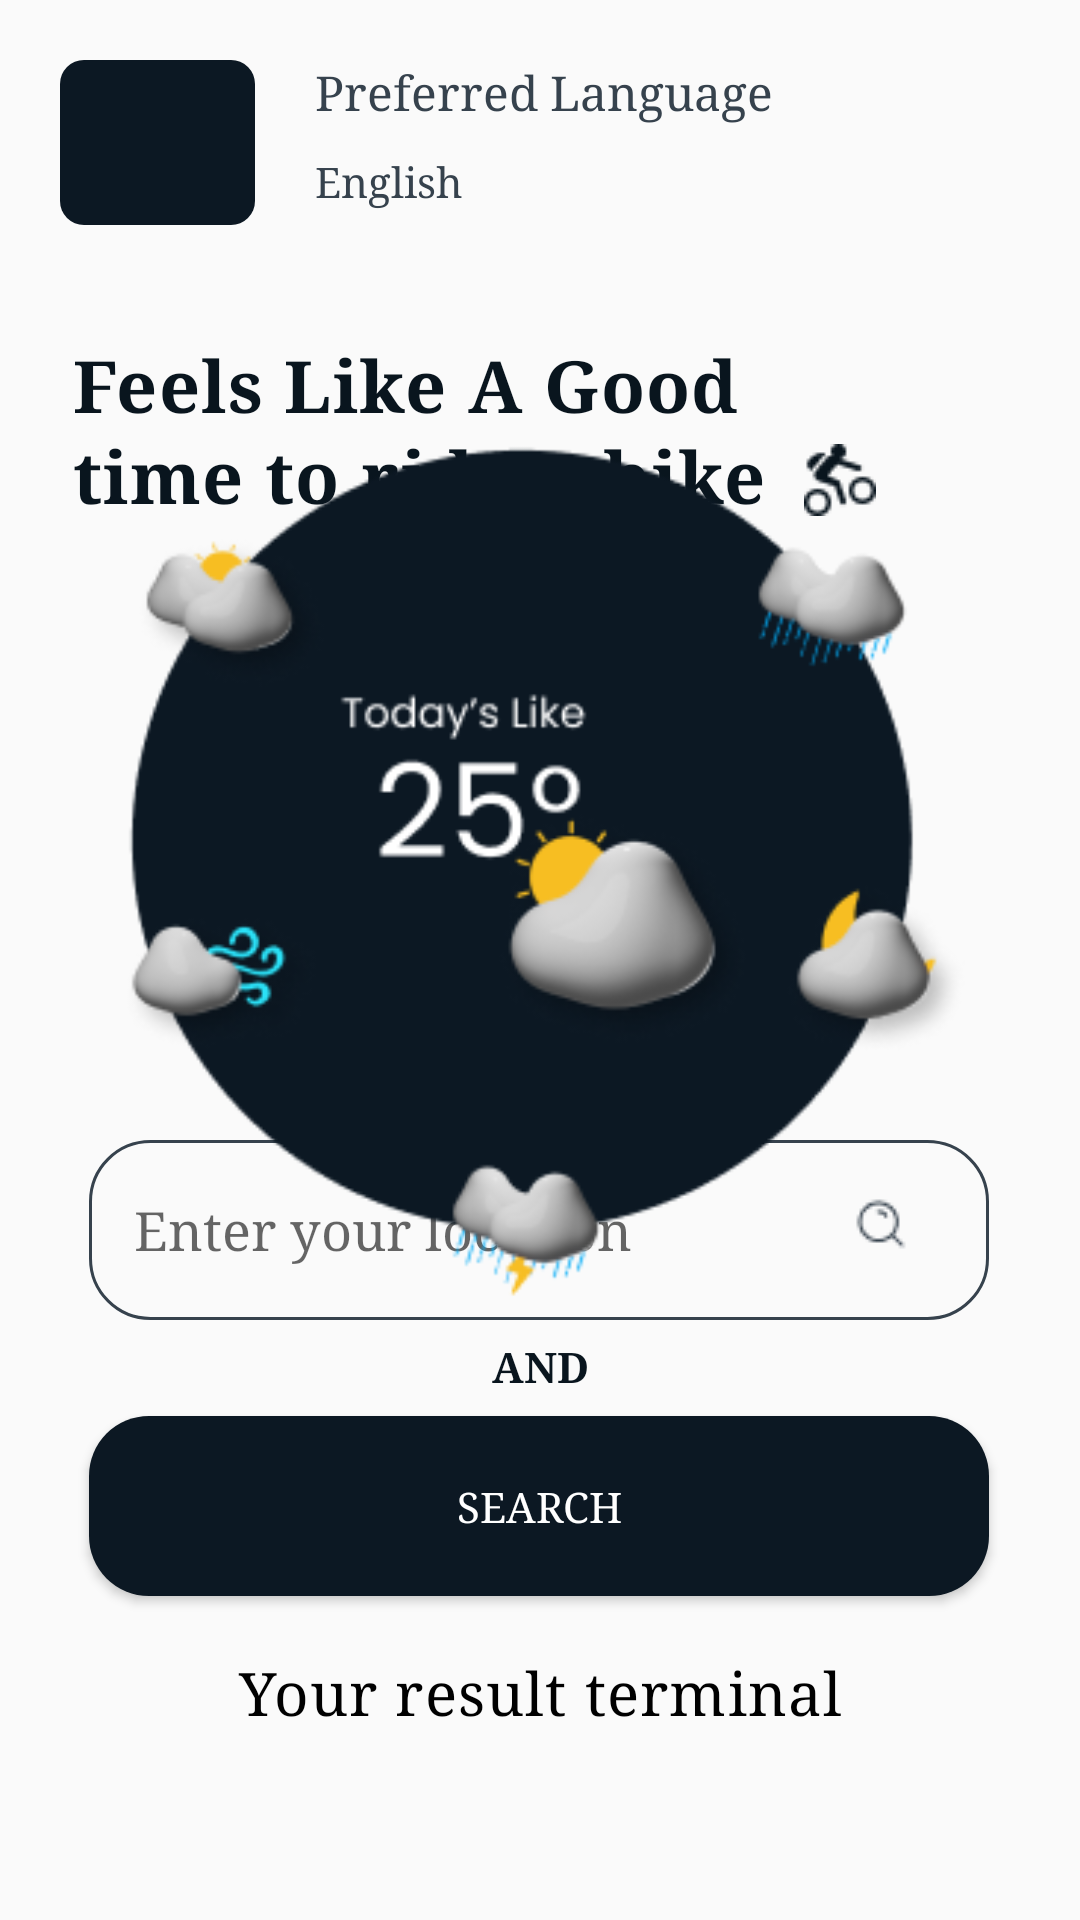

Named icons in this screenshot (1080px x 1920px) and their bounding boxes, (x1, y1, x2, y2):
search: (856, 1199, 905, 1248)
